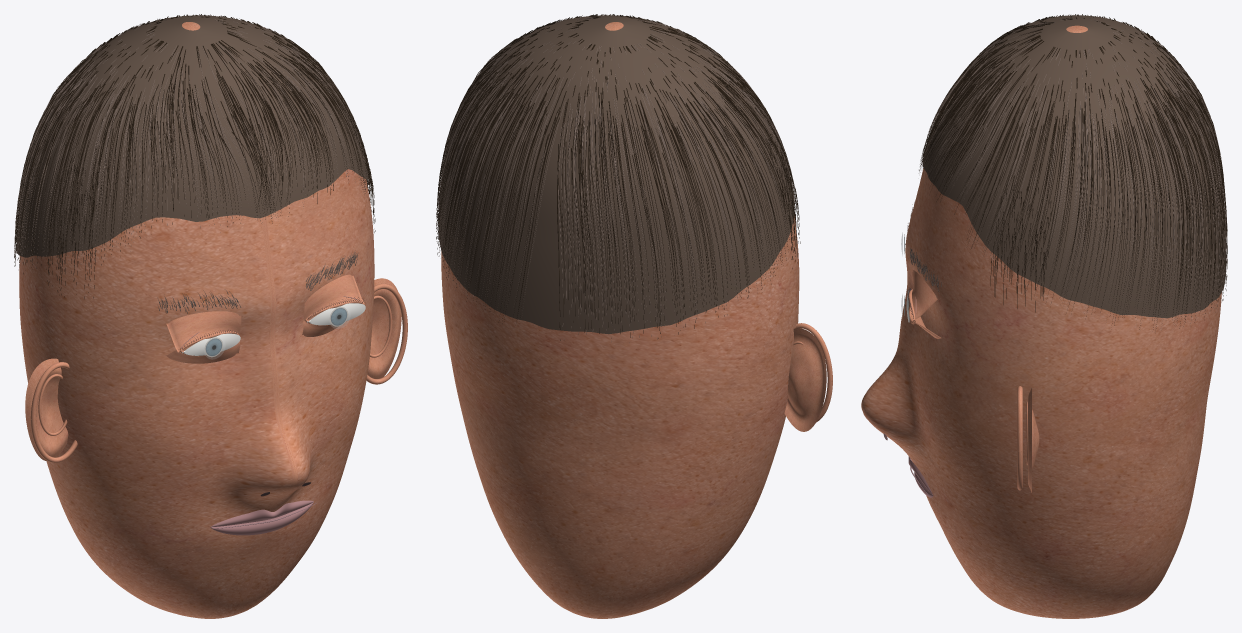
Rendered from photoreal_face_template.glb.
The picture shows the model from 3 angles, left to right: view 1: azimuth 30°, elevation 25°; view 2: azimuth 150°, elevation 25°; view 3: azimuth 270°, elevation 25°; orthographic projection.
Parts seen in each view (by area): view 1: head, hair_scalp, hair_strands_dark, hair_strands_highlights, outer_ear_-1, outer_ear_1, sideburn_fibres, upper_eyelid_skin_-1, upper_eyelid_skin_1, brow_hairs, lower_lip, helix_-1 (+5 smaller); view 2: head, hair_scalp, hair_strands_dark, hair_strands_highlights, outer_ear_-1, sideburn_fibres, helix_-1; view 3: head, hair_scalp, hair_strands_dark, hair_strands_highlights, sideburn_fibres, upper_eyelid_skin_1, outer_ear_1, helix_1.
Boxes of the visible parts, bbox=[...] form: head: bbox=[19, 22, 374, 618]; hair_scalp: bbox=[16, 15, 369, 257]; hair_strands_dark: bbox=[14, 14, 373, 274]; hair_strands_highlights: bbox=[14, 14, 372, 268]; outer_ear_-1: bbox=[25, 358, 68, 461]; outer_ear_1: bbox=[367, 278, 401, 378]; sideburn_fibres: bbox=[47, 99, 375, 298]; upper_eyelid_skin_-1: bbox=[166, 311, 241, 352]; upper_eyelid_skin_1: bbox=[303, 274, 364, 321]; brow_hairs: bbox=[157, 252, 358, 313]; lower_lip: bbox=[210, 502, 313, 535]; helix_-1: bbox=[30, 362, 77, 462]; head: bbox=[441, 22, 799, 618]; hair_scalp: bbox=[438, 15, 794, 334]; hair_strands_dark: bbox=[436, 14, 796, 340]; hair_strands_highlights: bbox=[436, 14, 797, 342]; outer_ear_-1: bbox=[784, 328, 826, 431]; sideburn_fibres: bbox=[767, 127, 800, 268]; helix_-1: bbox=[795, 323, 832, 422]; head: bbox=[861, 25, 1221, 618]; hair_scalp: bbox=[922, 15, 1226, 318]; hair_strands_dark: bbox=[919, 14, 1227, 329]; hair_strands_highlights: bbox=[920, 14, 1227, 323]; sideburn_fibres: bbox=[990, 184, 1051, 312]; upper_eyelid_skin_1: bbox=[912, 270, 937, 319]; outer_ear_1: bbox=[1028, 388, 1039, 492]; helix_1: bbox=[1017, 386, 1022, 490].
Size of the model in its own units: 1.75 by 2.56 by 1.46.
Materials: 12 (3 with a texture image).
